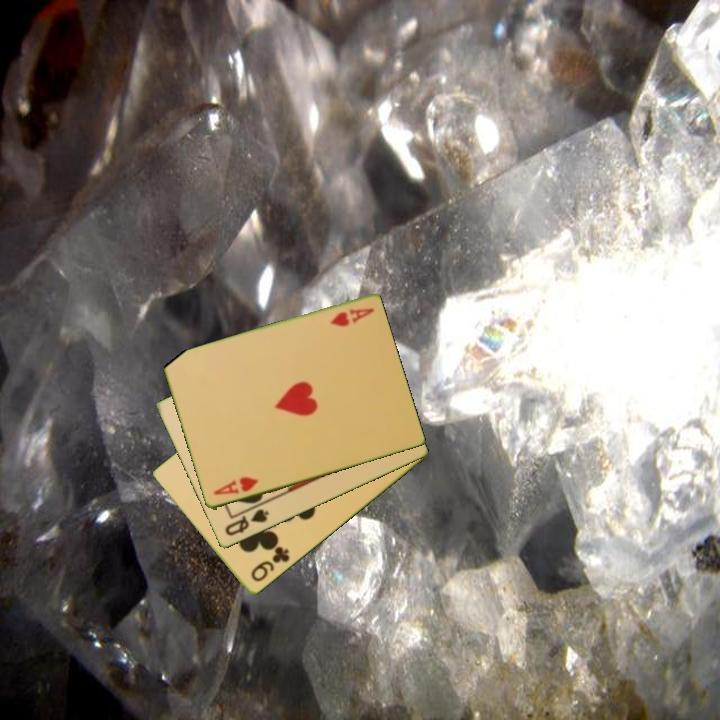9c: (247, 543, 293, 585)
Ah: (210, 473, 261, 499), (326, 305, 377, 330)
Qs: (221, 506, 272, 539)
